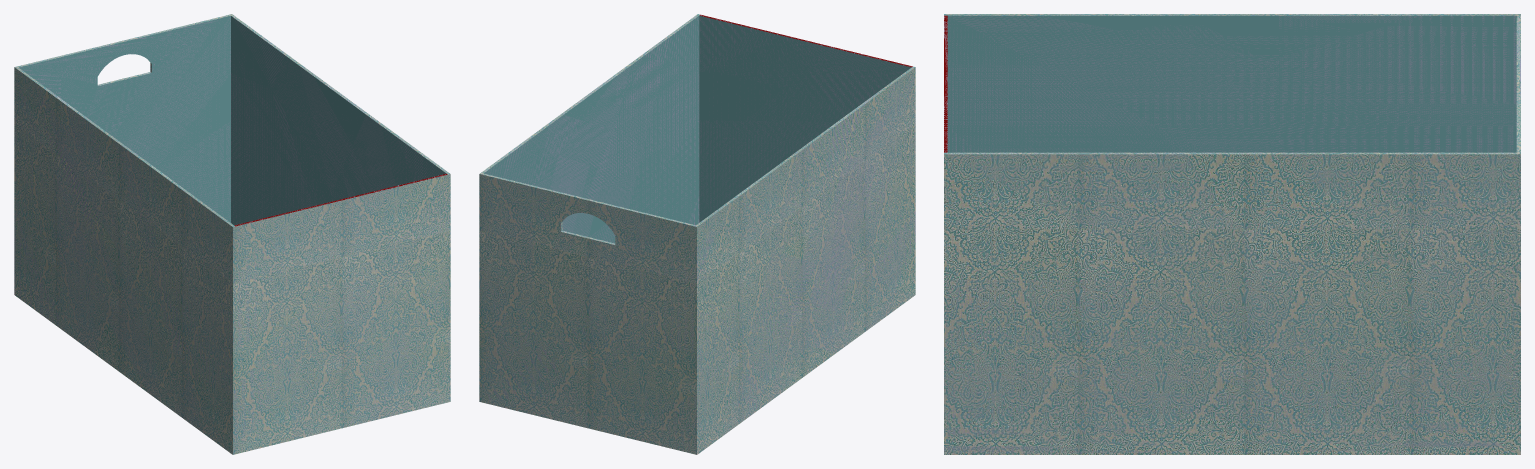
The picture shows the model from 3 angles, left to right: view 1: azimuth 30°, elevation 25°; view 2: azimuth 150°, elevation 25°; view 3: azimuth 270°, elevation 25°; orthographic projection. The views are drawn at different scales.
Visible parts, largest first — view 1: Green_Bin (×2); view 2: Green_Bin (×2); view 3: Green_Bin (×2).
Boxes of the visible parts, box(x1,y1,x2,y2) form: Green_Bin (×2): box(14, 14, 450, 454); Green_Bin (×2): box(479, 14, 915, 454); Green_Bin (×2): box(944, 14, 1520, 454).
Size of the model in its own units: 12 by 20.85 by 12.
6 materials, 2 textured.
